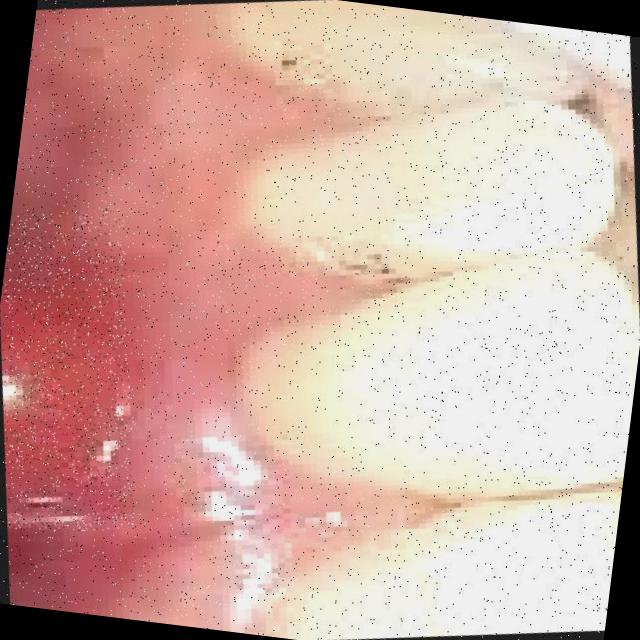abscess: (0, 195, 174, 548)
